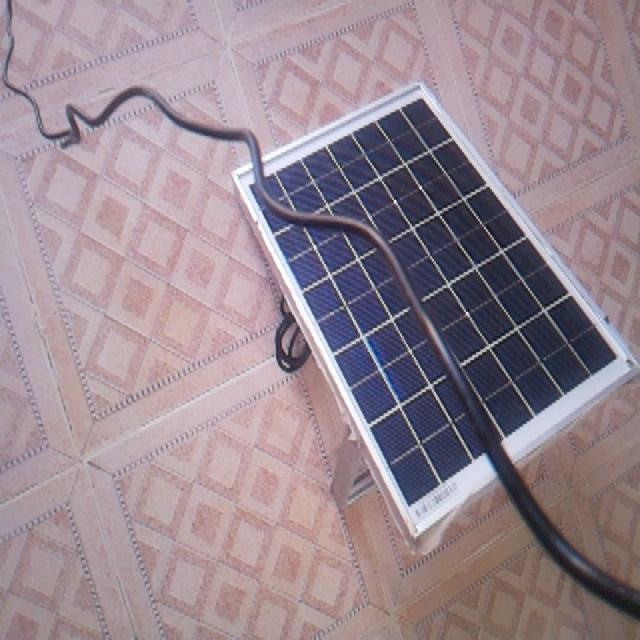Normal Solar Panel: (235, 80, 636, 535)
